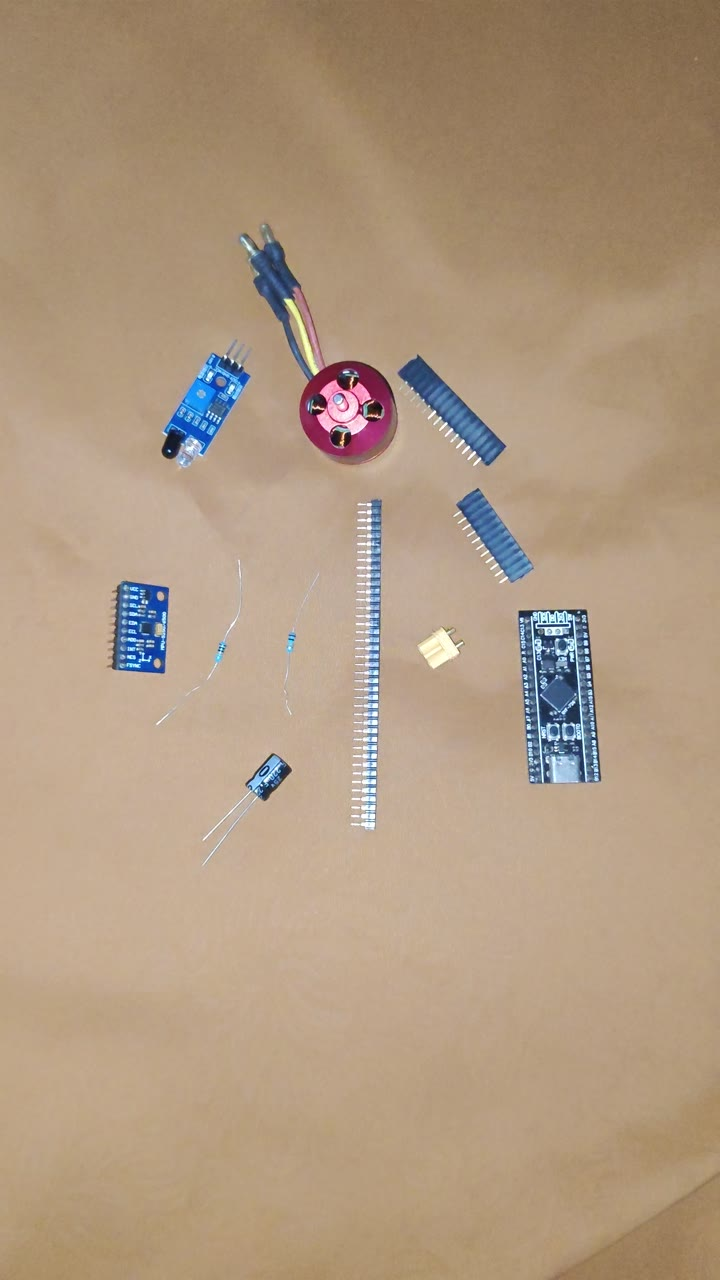bldc_motor: (279, 291, 398, 439)
elco_capacitor: (243, 751, 293, 802)
ir_sensor: (157, 349, 251, 459)
mpu6500: (109, 578, 171, 677)
pin_header: (329, 476, 413, 840), (393, 349, 510, 462), (450, 459, 536, 588)
resistor: (168, 530, 263, 732), (254, 536, 325, 724)
stm32f4: (515, 601, 600, 788)
xt30_female: (415, 625, 466, 670)
